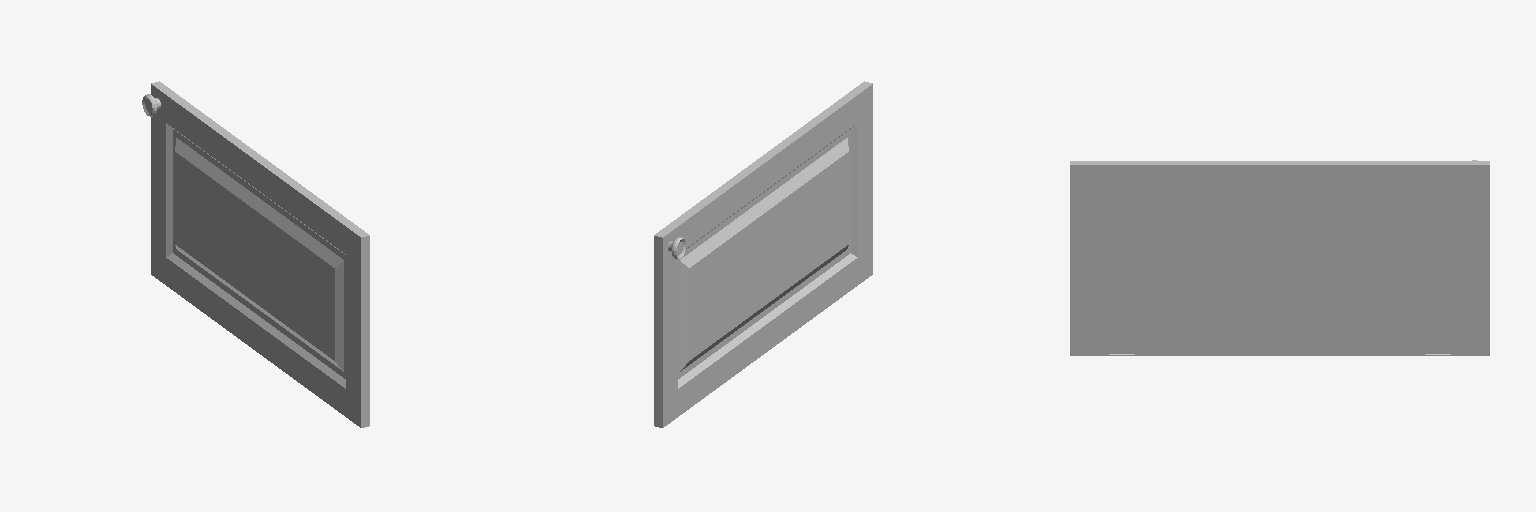
Rendered from am_kitchen01_doorr.obj.
The picture shows the model from 3 angles: view 1: azimuth 30°, elevation 25°; view 2: azimuth 150°, elevation 25°; view 3: azimuth 270°, elevation 25°; orthographic projection.
Parts seen in each view (by area): view 1: am_kitchen01_doorr; view 2: am_kitchen01_doorr; view 3: am_kitchen01_doorr.
Part boxes in pixels (left/top/right/bottom): am_kitchen01_doorr: left=142, top=81, right=369, bottom=427; am_kitchen01_doorr: left=654, top=81, right=872, bottom=427; am_kitchen01_doorr: left=1070, top=160, right=1489, bottom=355.
Bounding box in the file's own units: 1.93 × 16.01 × 32.